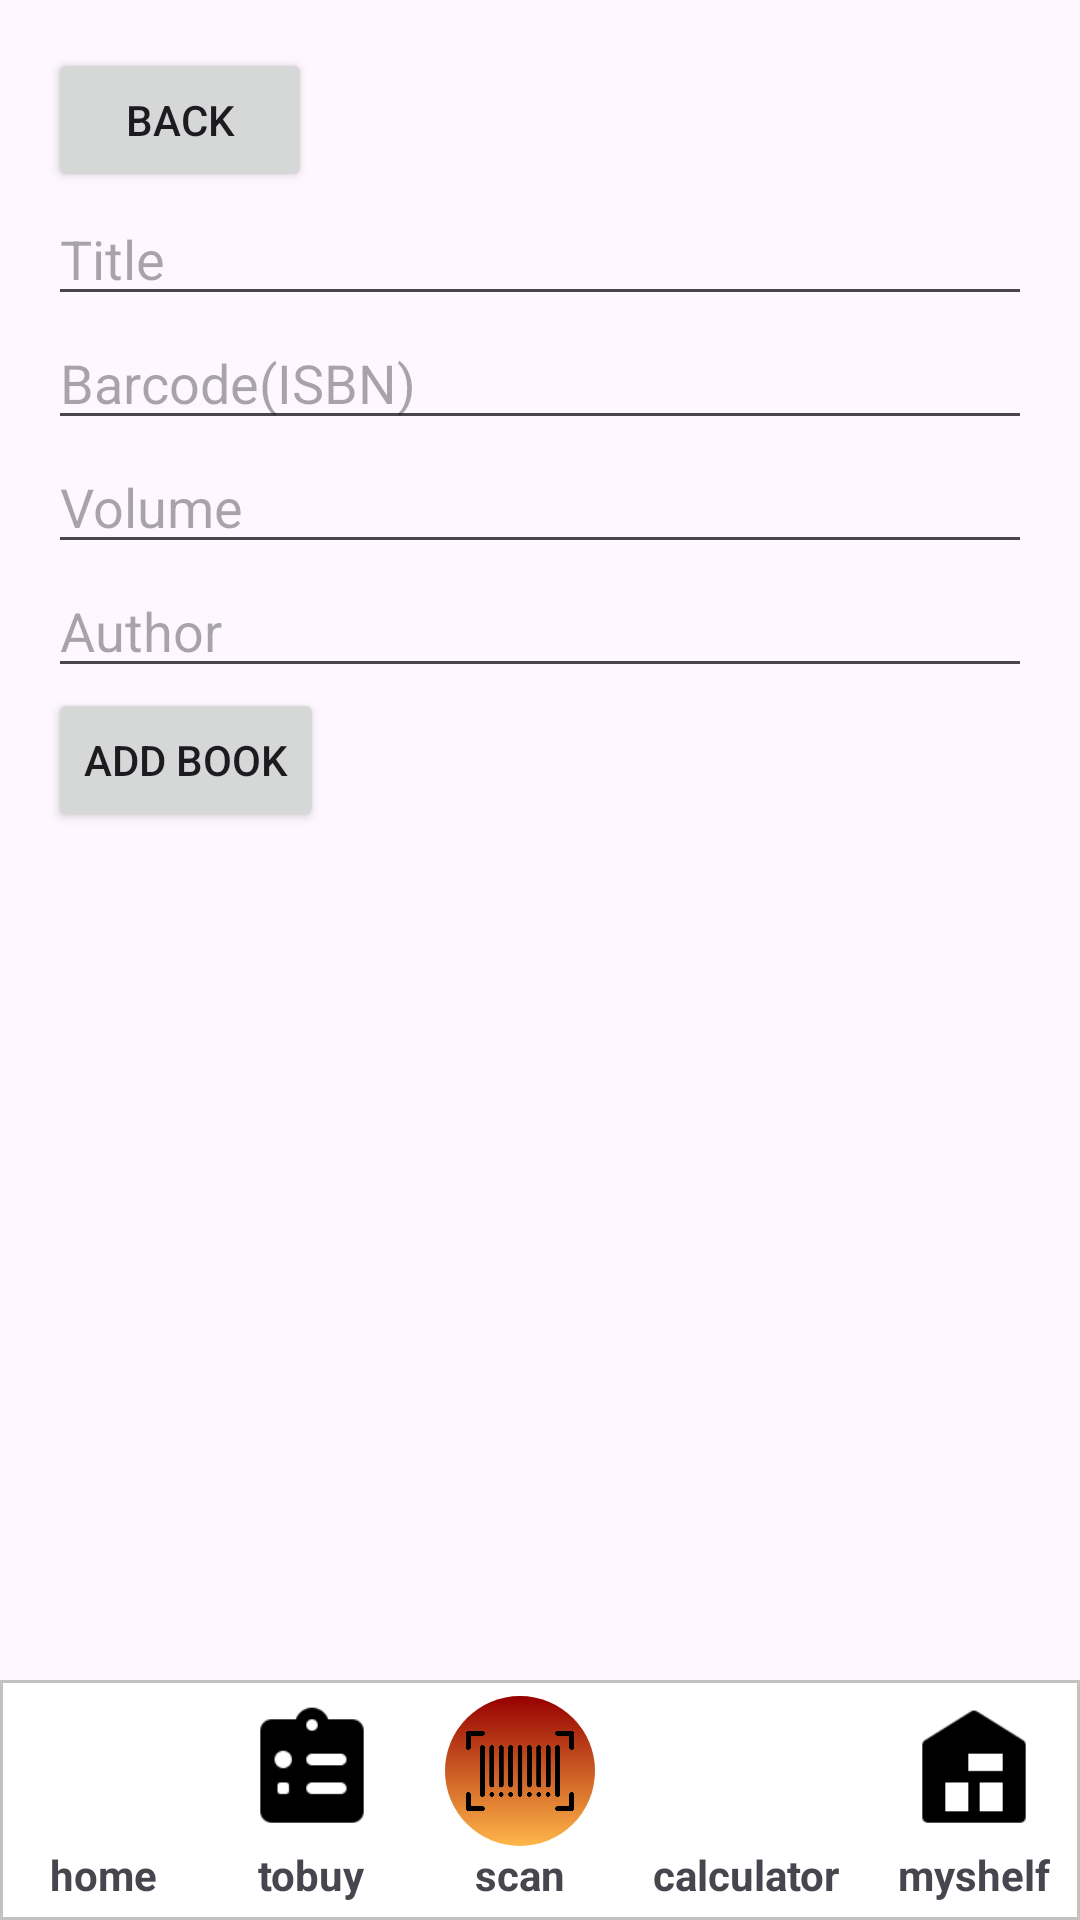

Where to tap for icons on this 1080 x 1920 app screen, as point (x, y):
barcode: point (520, 1771)
